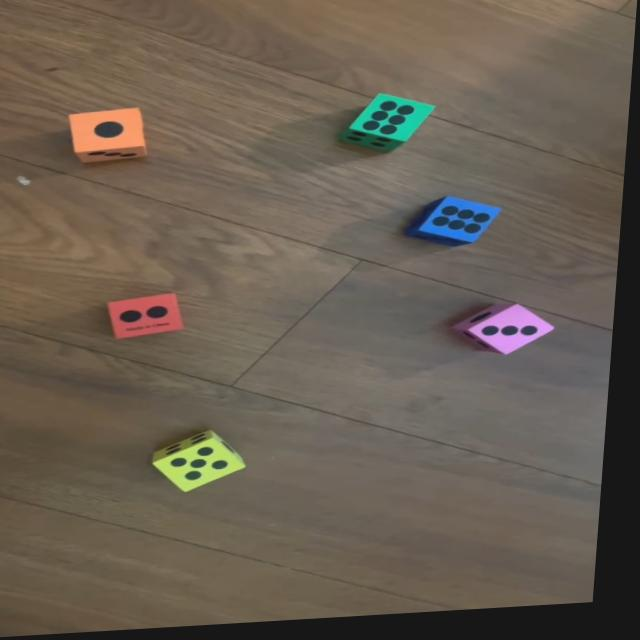cube: (341, 95, 440, 159), (406, 199, 508, 255), (110, 294, 192, 342)
